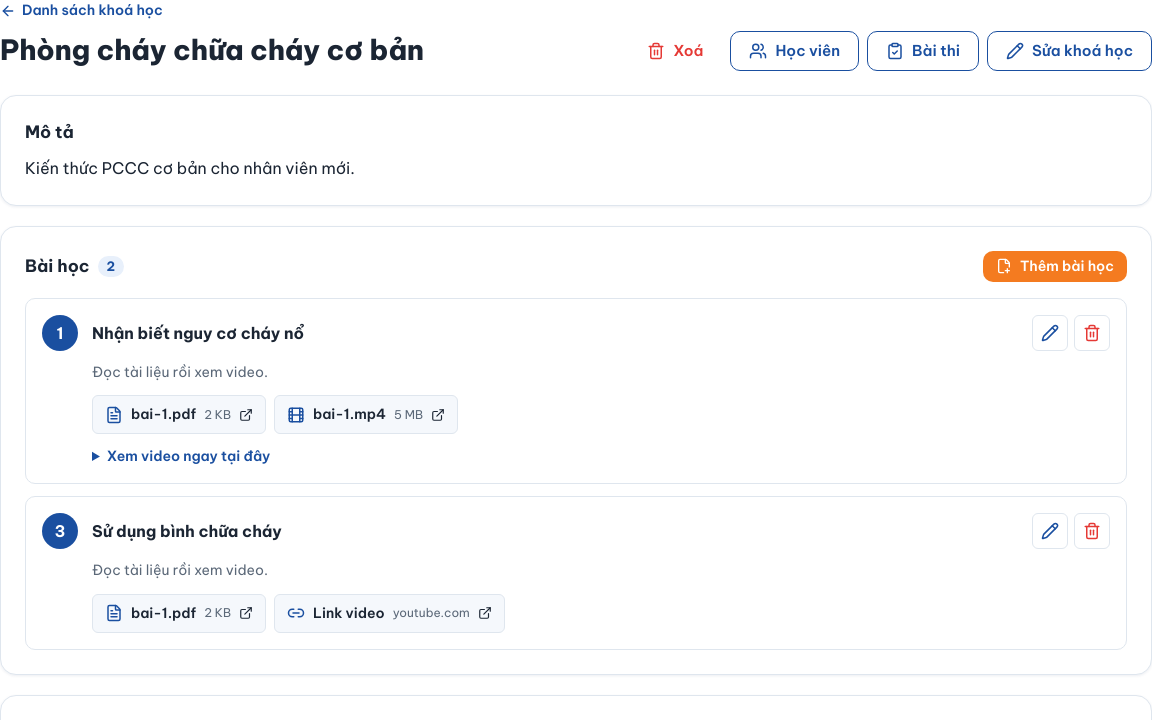
Test: CourseDetailPage › deletes a lesson and reloads the course
Click the button named "Xoá bài Sử dụng bình chữa cháy". click: {"x": 1092, "y": 531}
box: [1074,513,1110,549]
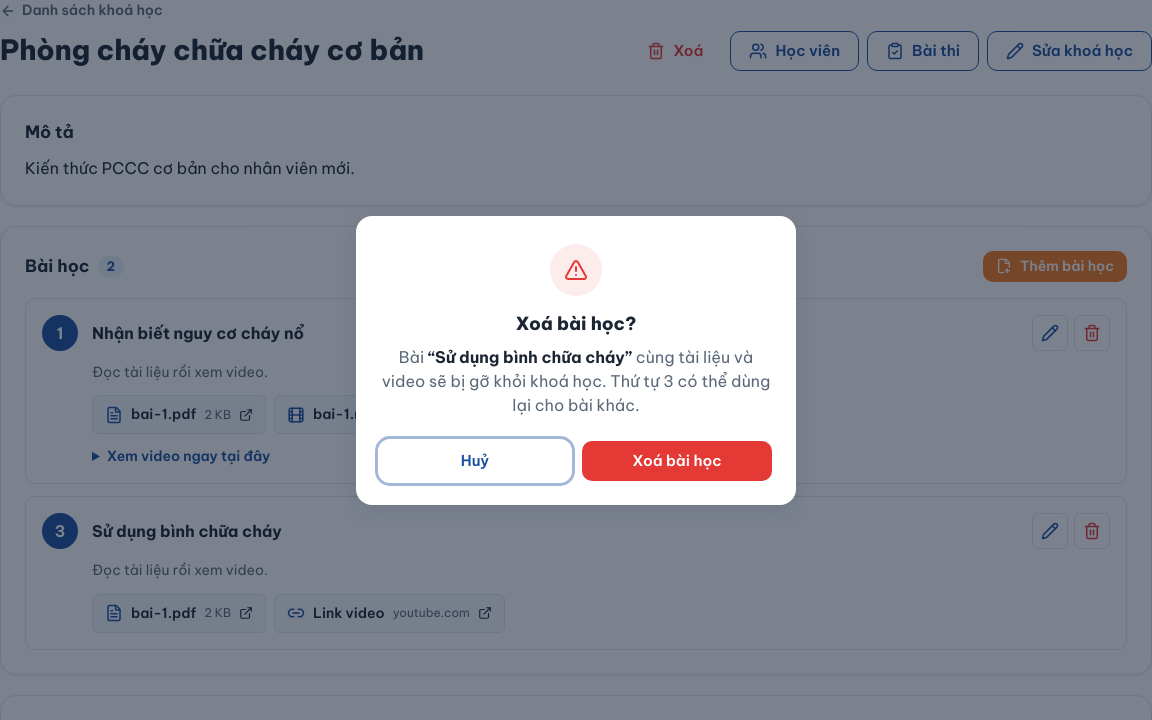
Expected: the dialog "Xoá bài học?" shows "Thứ tự 3 có thể dùng lại", [356,216,796,504]
Click the button "Xoá bài học". click: {"x": 677, "y": 460}
box: [582,440,772,480]
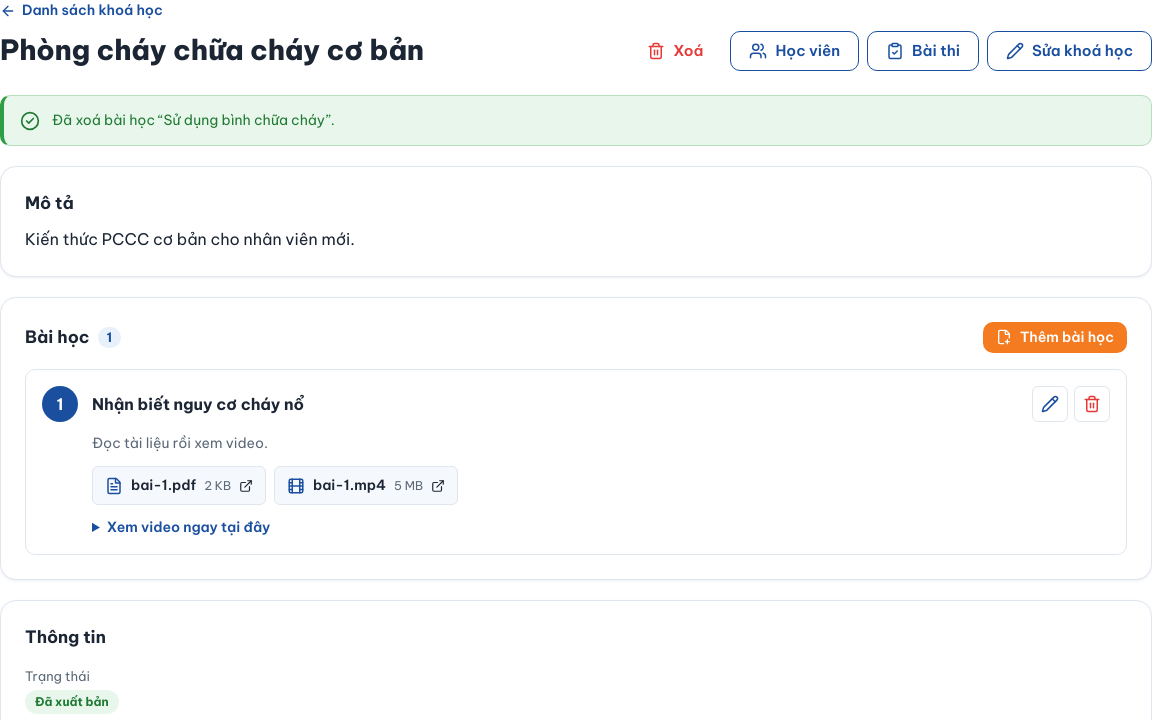
Expected: the text "Đã xoá bài học “Sử dụng bình chữa cháy”." is shown, [52,110,335,131]
